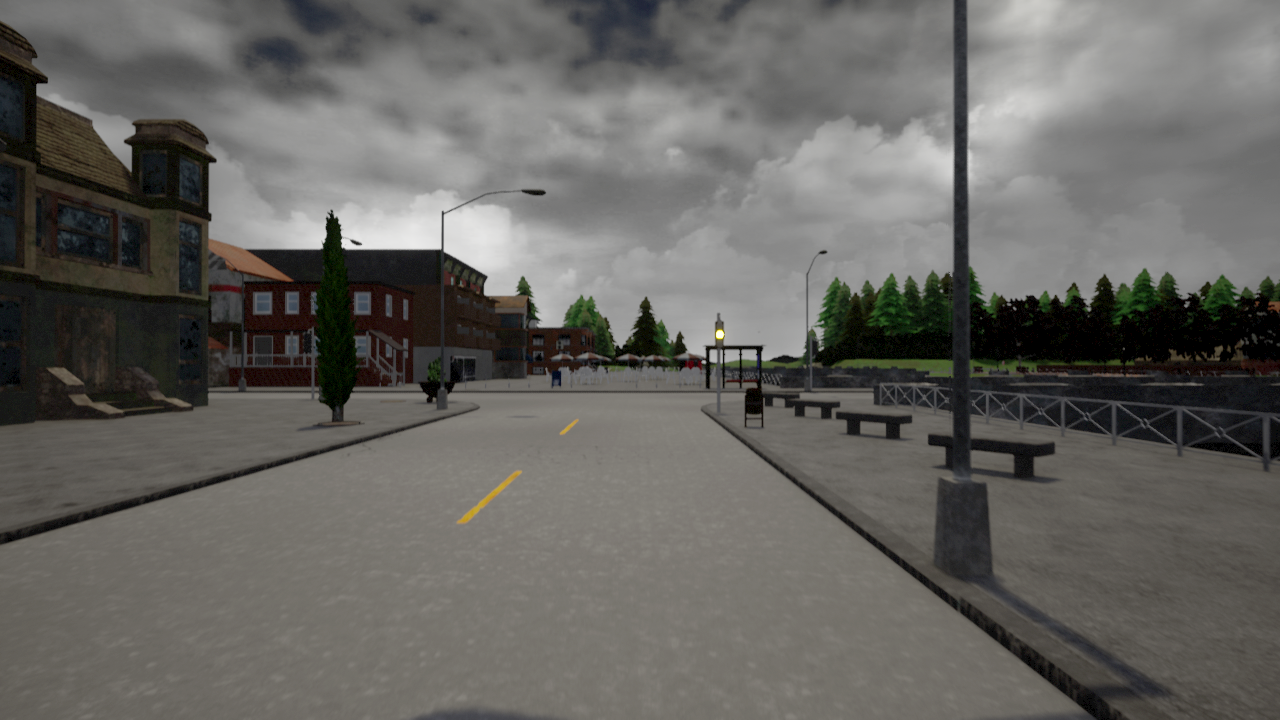yellow: (713, 320, 727, 349)
